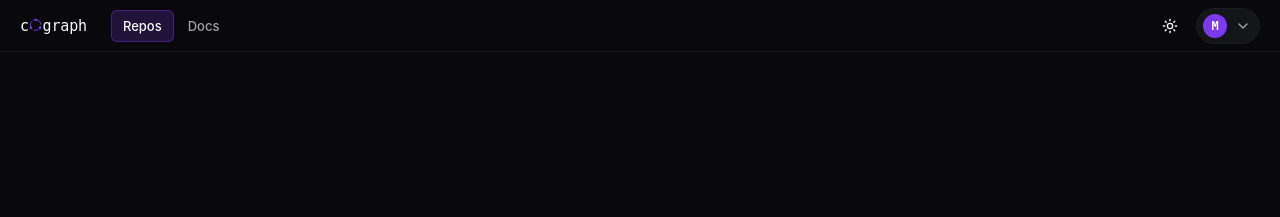
Test case: TopBar jobs access › shows an account menu with logout for non-admin authenticated users
Click the button named "open account menu for member@example.com".
click(1228, 26)  # box [1196, 8, 1260, 44]
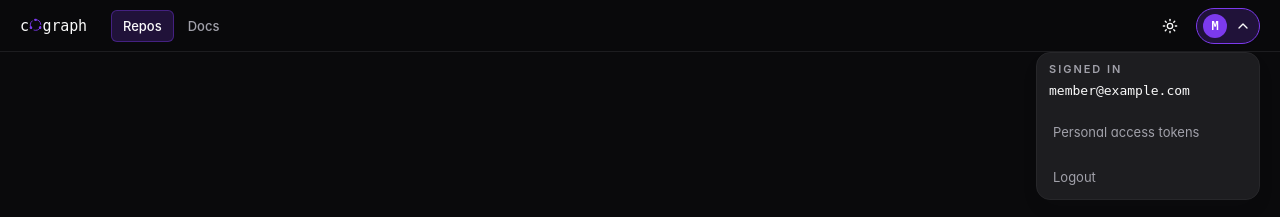
Expected: the text "member@example.com" is shown, [1049, 82, 1190, 98]
Expected: the menu item "Logout" is shown, [1041, 158, 1255, 194]
